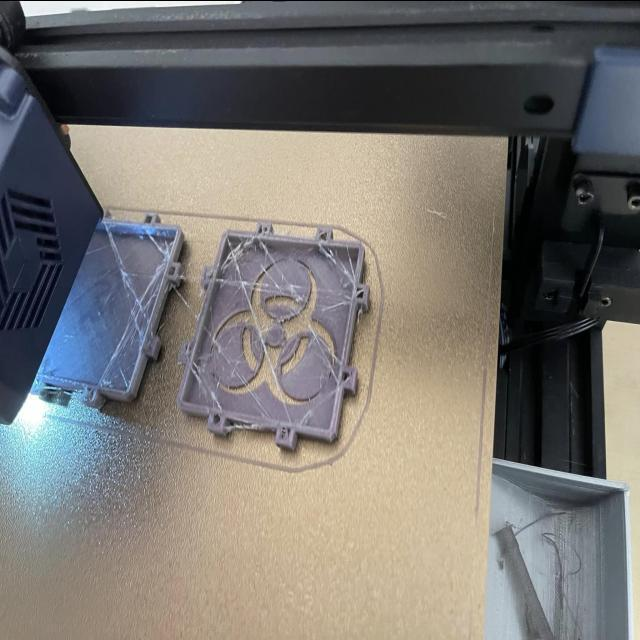stringing: (222, 231, 294, 424), (94, 245, 168, 383), (204, 318, 274, 415), (102, 223, 149, 337), (313, 242, 356, 287)
